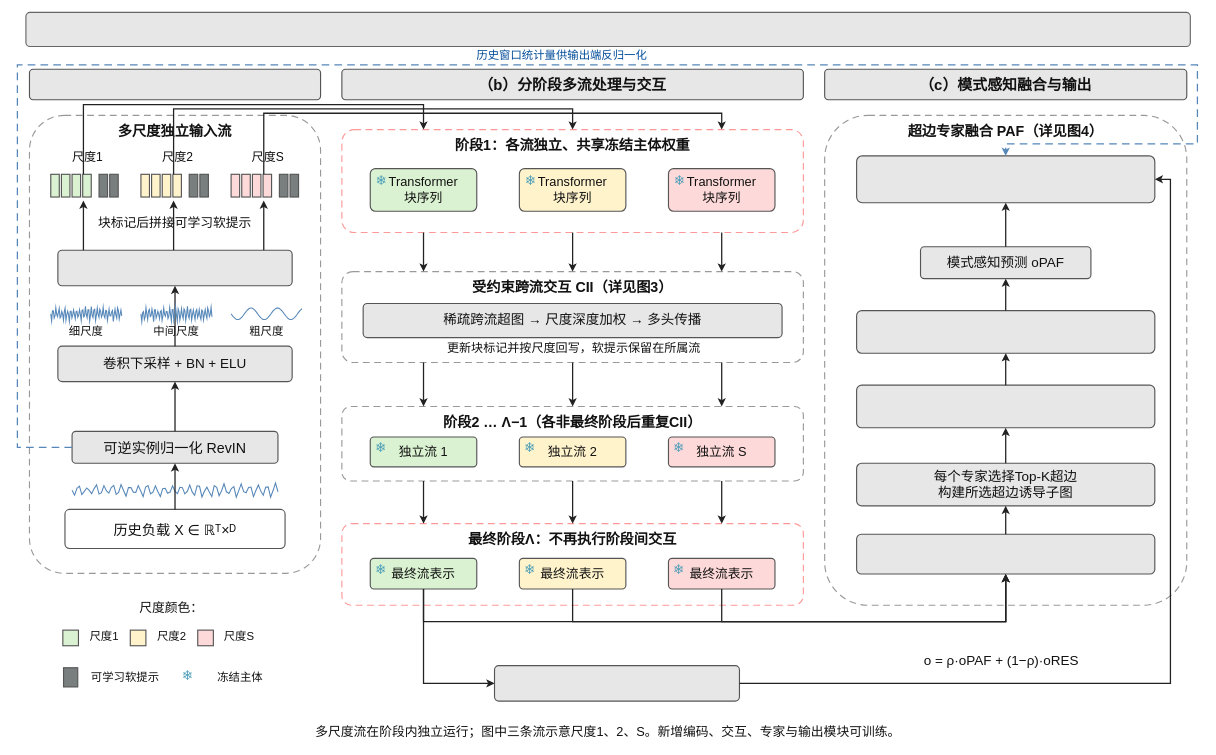
Some shapes in this 1216 by 755 pixel diagram are drawn without their labels. The box of each missing label's shape, as (x1, y1, x2, y2) in pixels:
专家超图卷积 + 残差 + 层归一化 超边聚合及预测映射: (856, 384, 1155, 428)
两路加权结合并反归一化 输出 Ŷ ∈ ℝᶠ×ᴰ: (856, 155, 1155, 203)
图2 多流多尺度预测模型总体框架示意图: (25, 12, 1191, 47)
填充、分块与块嵌入: (57, 249, 292, 286)
最细尺度流 → 残差读出 oRES: (494, 665, 740, 701)
最终多流块标记 → 超边特征: (856, 533, 1155, 574)
稀疏门控合成超边预测 重要性加权与sigmoid门控: (856, 310, 1155, 353)
（a）多尺度标记化: (29, 68, 321, 100)
